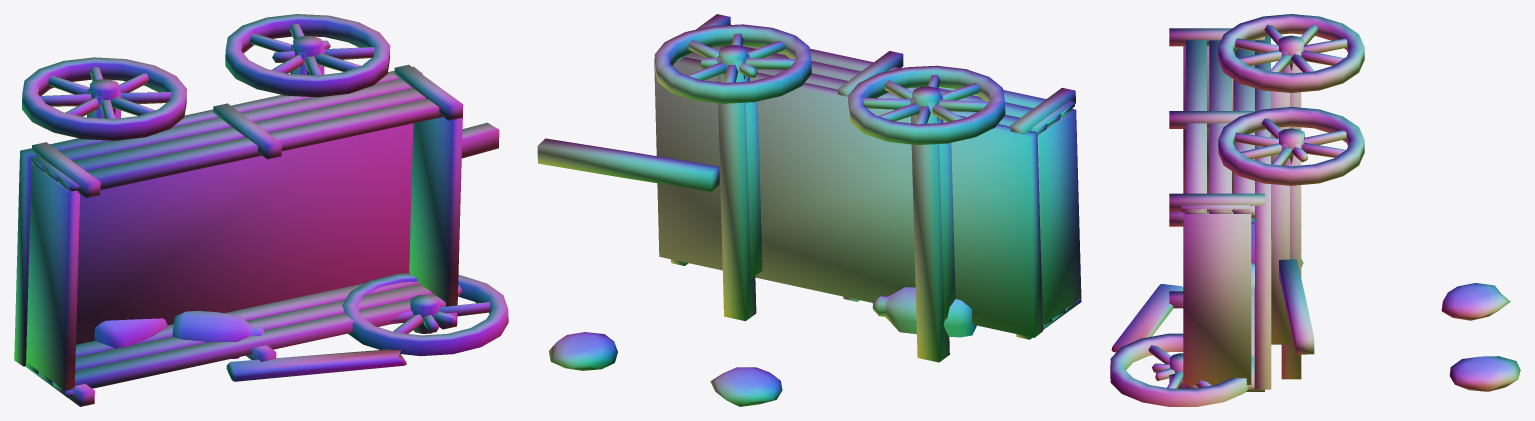
The model's file is SM_Prop_March_SheepfoldWagon_A.fbx.
The picture shows the model from 3 angles, left to right: view 1: azimuth 30°, elevation 25°; view 2: azimuth 150°, elevation 25°; view 3: azimuth 270°, elevation 25°; orthographic projection. The views are drawn at different scales.
Parts seen in each view (by area): view 1: SM_Prop_March_SheepfoldWagon_A; view 2: SM_Prop_March_SheepfoldWagon_A; view 3: SM_Prop_March_SheepfoldWagon_A.
Boxes of the visible parts, bbox=[...] form: SM_Prop_March_SheepfoldWagon_A: bbox=[14, 14, 508, 406]; SM_Prop_March_SheepfoldWagon_A: bbox=[537, 14, 1081, 406]; SM_Prop_March_SheepfoldWagon_A: bbox=[1110, 14, 1520, 406].
Bounding box in the file's own units: 2.95 × 1.59 × 2.38.
